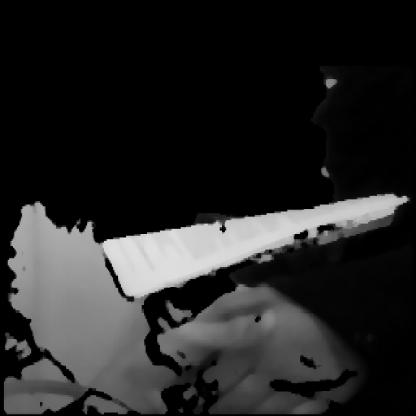handshake: (57, 231, 415, 414)
